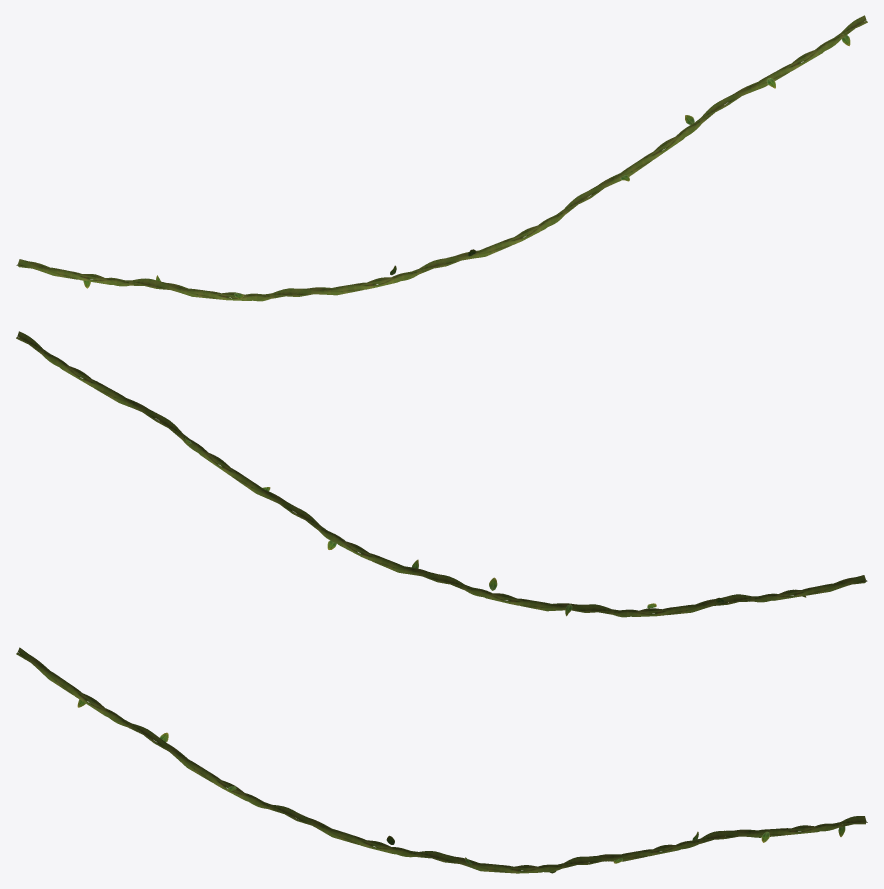
File: veg_vine.fbx
3 views of the same model, one above another, from view 1: azimuth 30°, elevation 25°; view 2: azimuth 150°, elevation 25°; view 3: azimuth 330°, elevation 25° (orthographic).
Visible parts, largest first — view 1: veg_vine; view 2: veg_vine; view 3: veg_vine.
Part boxes in pixels (box(x1,y1,x2,y2)): veg_vine: box(16, 15, 867, 301); veg_vine: box(16, 331, 867, 617); veg_vine: box(16, 647, 867, 873).
Bounding box in the file's own units: 1595 × 272 × 46.99.
